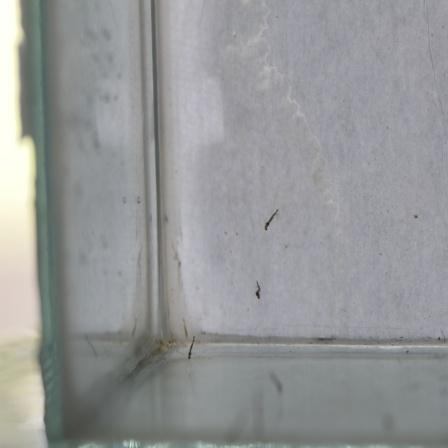Jentik-Nyamuk: (258, 206, 281, 233), (185, 333, 199, 363), (250, 277, 265, 302)
